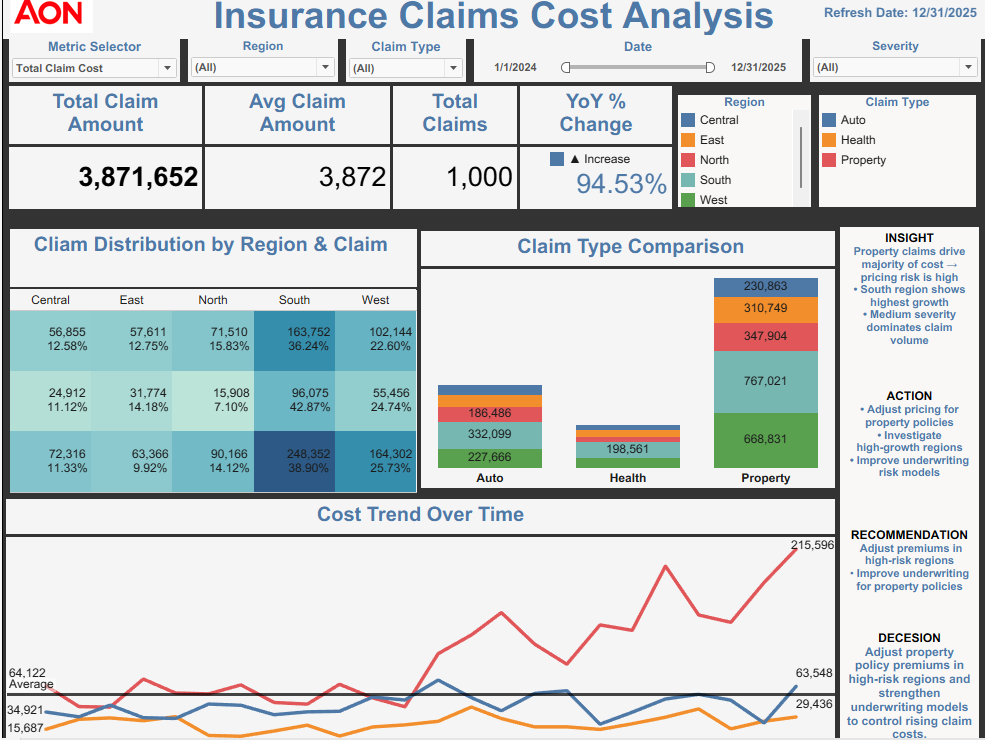

The dashboard page shown, as its layout file describes it:
{"tool":"tableau","page":{"name":"Insurance Claims Cost Analysis   ","canvas":[1000,800],"ordinal":0},"visuals":[{"type":"title","box":[9,9,982,46]},{"type":"worksheet","title":"Refresh Date ","mark":"Automatic","box":[826,9,164,40]},{"type":"image","param":"Image/Aon.png","box":[10,10,96,39]},{"type":"image","param":"Image/Aon 1.png","box":[10,10,81,41]},{"type":"parameter","param":"[Parameters].[Parameter 1]","box":[11,51,179,51]},{"type":"filter","title":" Claim Type Comparison","param":"[federated.14pvld81r1sial13jtkyo1m0q8vq].[none:region:nk]","box":[190,51,158,51]},{"type":"filter","title":"Cost Trend Over Time","param":"[federated.14pvld81r1sial13jtkyo1m0q8vq].[none:claim_type:nk]","box":[348,51,128,51]},{"type":"filter","title":" Claim Type Comparison","param":"[federated.14pvld81r1sial13jtkyo1m0q8vq].[none:severity:nk]","box":[476,51,179,51]},{"type":"filter","title":"Cost Trend Over Time","param":"[federated.14pvld81r1sial13jtkyo1m0q8vq].[none:claim_date:qk]","box":[655,51,336,51]},{"type":"image","box":[9,55,982,736]},{"type":"worksheet","title":"Total Claim Amount","mark":"Automatic","box":[15,102,193,123]},{"type":"worksheet","title":"Avg Claim Amount","mark":"Automatic","box":[211,102,185,123]},{"type":"worksheet","title":"Total Claims","mark":"Automatic","box":[399,102,124,123]},{"type":"worksheet","title":"YoY %  Change","mark":"Automatic","box":[526,102,152,123]},{"type":"legend","title":" Claim Type Comparison","param":"[federated.14pvld81r1sial13jtkyo1m0q8vq].[none:region:nk]","box":[680,107,141,120]},{"type":"legend","title":"Cost Trend Over Time","param":"[federated.14pvld81r1sial13jtkyo1m0q8vq].[none:claim_type:nk]","box":[821,107,165,120]},{"type":"legend","title":"YoY %  Change","param":"[federated.14pvld81r1sial13jtkyo1m0q8vq].[none:Calculation_1039374315454486:nk]","box":[553,165,118,35]},{"type":"worksheet","title":"Cliam Distribution by Region & Claim ","mark":"Square","rows":["claim_type"],"cols":["region"],"box":[12,241,415,272]},{"type":"worksheet","title":" Claim Type Comparison","mark":"Automatic","rows":["Calculation_1039374267588622"],"cols":["claim_type"],"box":[423,243,422,265]},{"type":"text","box":[846,243,139,127]},{"type":"text","box":[846,370,139,163.5]},{"type":"worksheet","title":"Cost Trend Over Time","mark":"Automatic","rows":["Calculation_1039374267588622"],"cols":["claim_date"],"box":[8,511,837,277]},{"type":"text","box":[846,533.5,139,88]},{"type":"text","box":[846,621.5,139,163.5]}]}

Visuals, with their boxes on the page's 1000x800 design canvas (x1, y1, x2, y2). These are canvas units, not pixel positions in the 985x740 screenshot, which may show the page scaled, cropped or inside an application window:
title: locate(9, 9, 991, 55)
"Refresh Date " worksheet: locate(826, 9, 990, 49)
image: locate(10, 10, 106, 49)
image: locate(10, 10, 91, 51)
parameter: locate(11, 51, 190, 102)
" Claim Type Comparison" filter: locate(190, 51, 348, 102)
"Cost Trend Over Time" filter: locate(348, 51, 476, 102)
" Claim Type Comparison" filter: locate(476, 51, 655, 102)
"Cost Trend Over Time" filter: locate(655, 51, 991, 102)
image: locate(9, 55, 991, 791)
"Total Claim Amount" worksheet: locate(15, 102, 208, 225)
"Avg Claim Amount" worksheet: locate(211, 102, 396, 225)
"Total Claims" worksheet: locate(399, 102, 523, 225)
"YoY %  Change" worksheet: locate(526, 102, 678, 225)
" Claim Type Comparison" legend: locate(680, 107, 821, 227)
"Cost Trend Over Time" legend: locate(821, 107, 986, 227)
"YoY %  Change" legend: locate(553, 165, 671, 200)
"Cliam Distribution by Region & Claim " worksheet (Square marks): locate(12, 241, 427, 513)
" Claim Type Comparison" worksheet: locate(423, 243, 845, 508)
text: locate(846, 243, 985, 370)
text: locate(846, 370, 985, 534)
"Cost Trend Over Time" worksheet: locate(8, 511, 845, 788)
text: locate(846, 534, 985, 622)
text: locate(846, 622, 985, 785)
